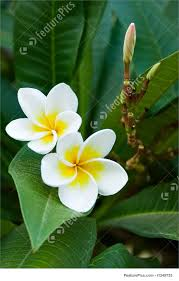frangipani: (42, 129, 130, 212)
